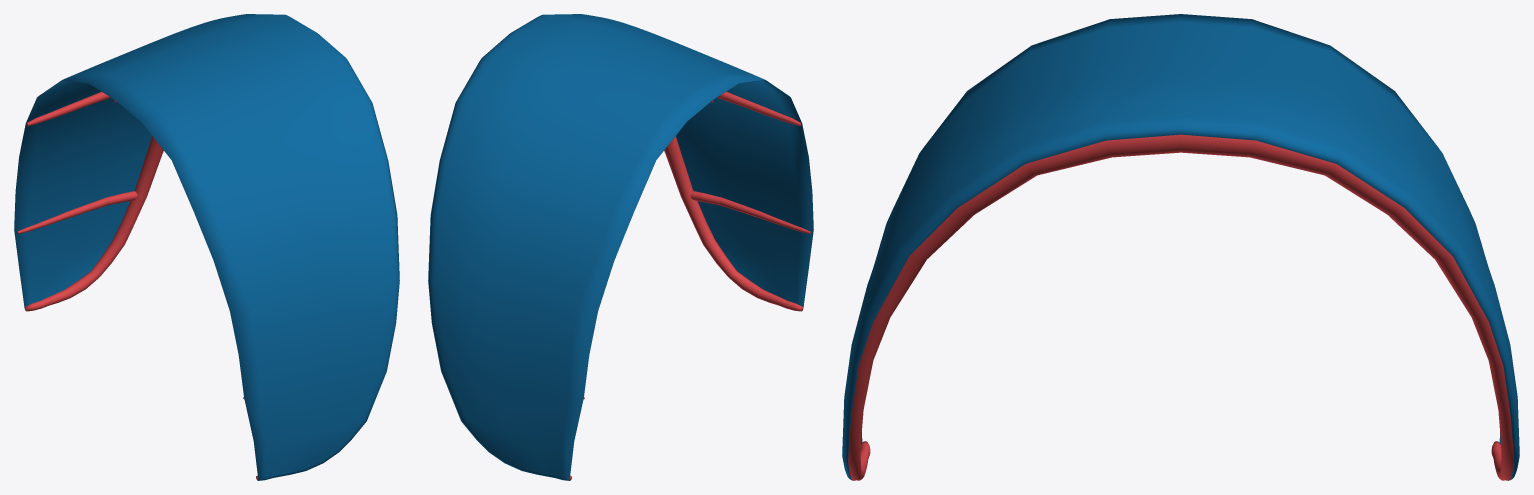
Rendered from kite01.fbx.
3 views of the same model, side by side, from view 1: azimuth 30°, elevation 25°; view 2: azimuth 150°, elevation 25°; view 3: azimuth 270°, elevation 25° (orthographic). The views are drawn at different scales.
Visible parts, largest first — view 1: Spi, Centrale, lattes_down, lattes_middle_up2; view 2: Spi, Centrale, lattes_down, lattes_middle_up; view 3: Spi, Centrale.
Part boxes in pixels (x1,y1,x2,y2): Spi: [14, 14, 399, 480]; Centrale: [24, 136, 258, 480]; lattes_down: [16, 191, 244, 398]; lattes_middle_up2: [26, 91, 110, 126]; Spi: [428, 14, 813, 480]; Centrale: [569, 136, 803, 480]; lattes_down: [583, 191, 811, 398]; lattes_middle_up: [717, 91, 801, 126]; Spi: [842, 14, 1519, 480]; Centrale: [848, 134, 1513, 480].
Size of the model in its own units: 230 by 346 by 477.
